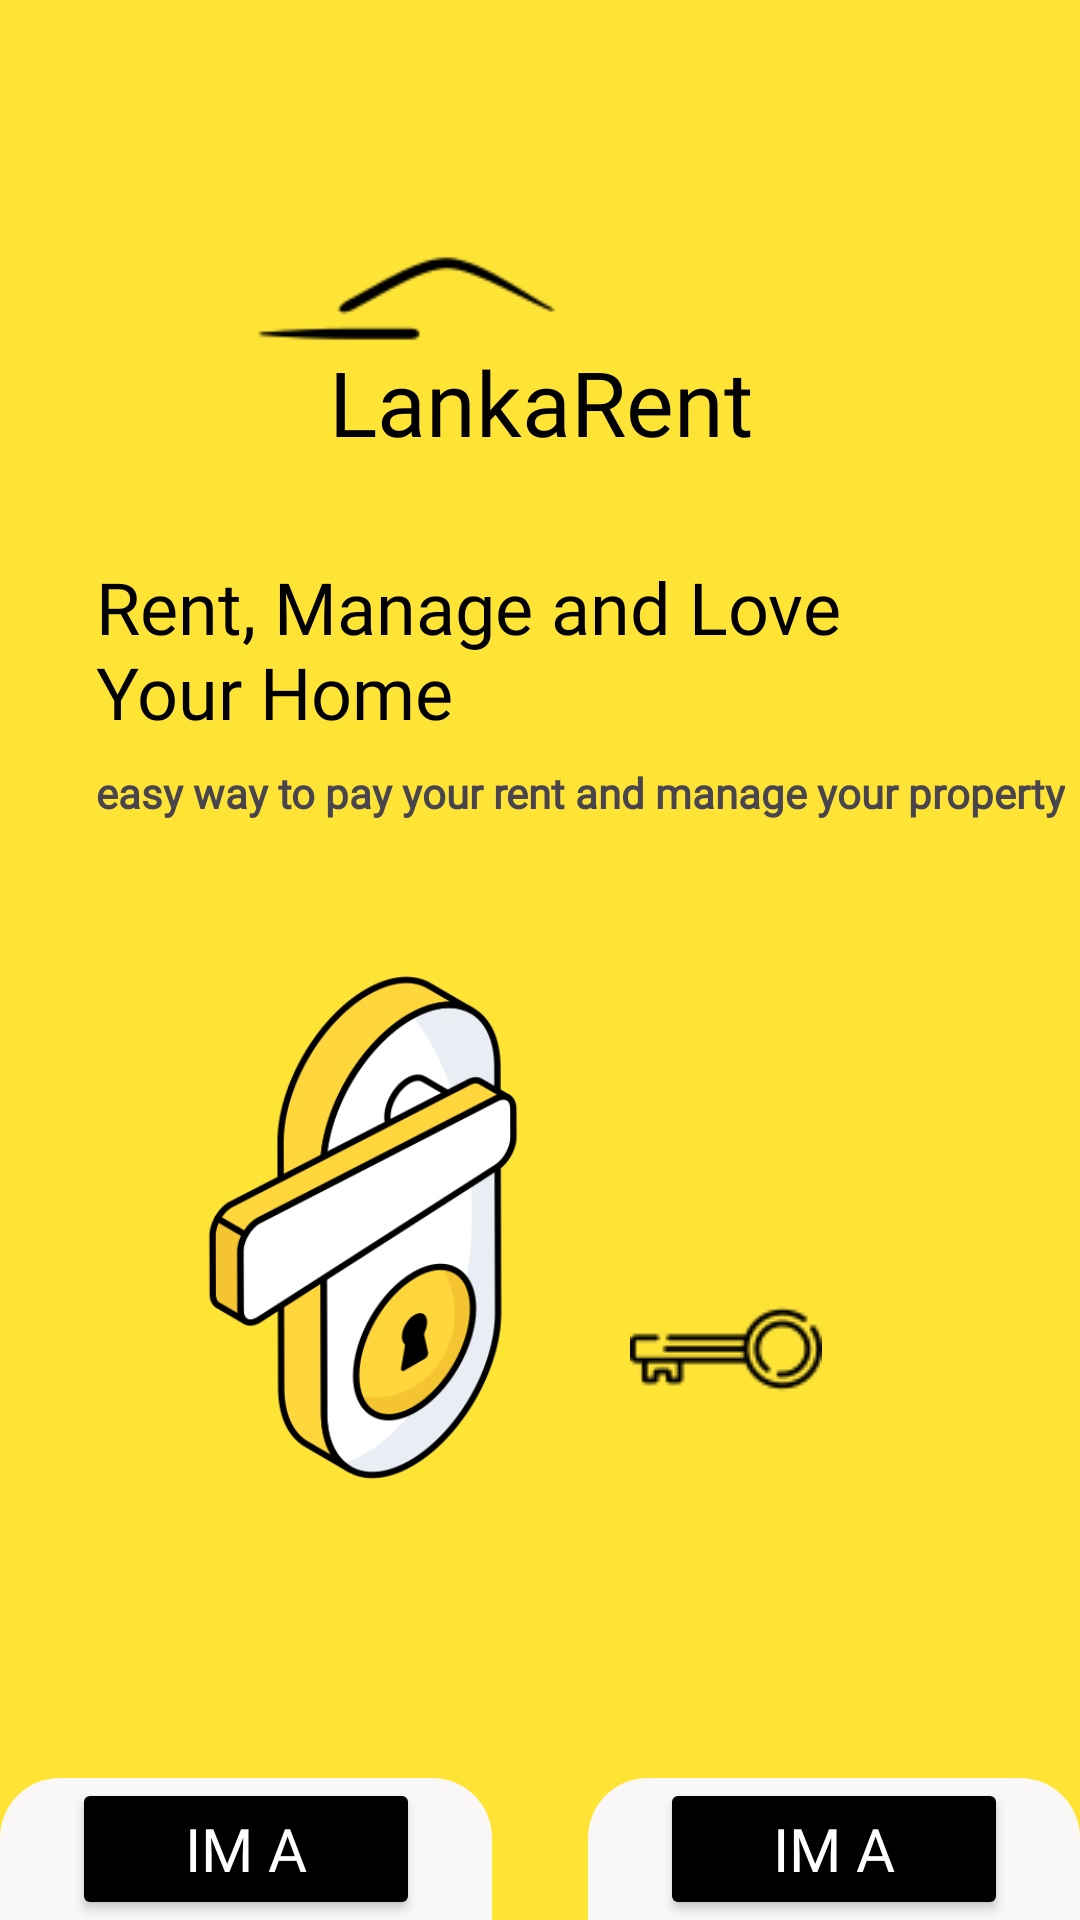

Icons on this 1080 x 1920 Android screen, each with its box as {"x1": x1, "y1": y1, "x2": x2, "y2": y2}:
house key: {"x1": 630, "y1": 1307, "x2": 822, "y2": 1391}
